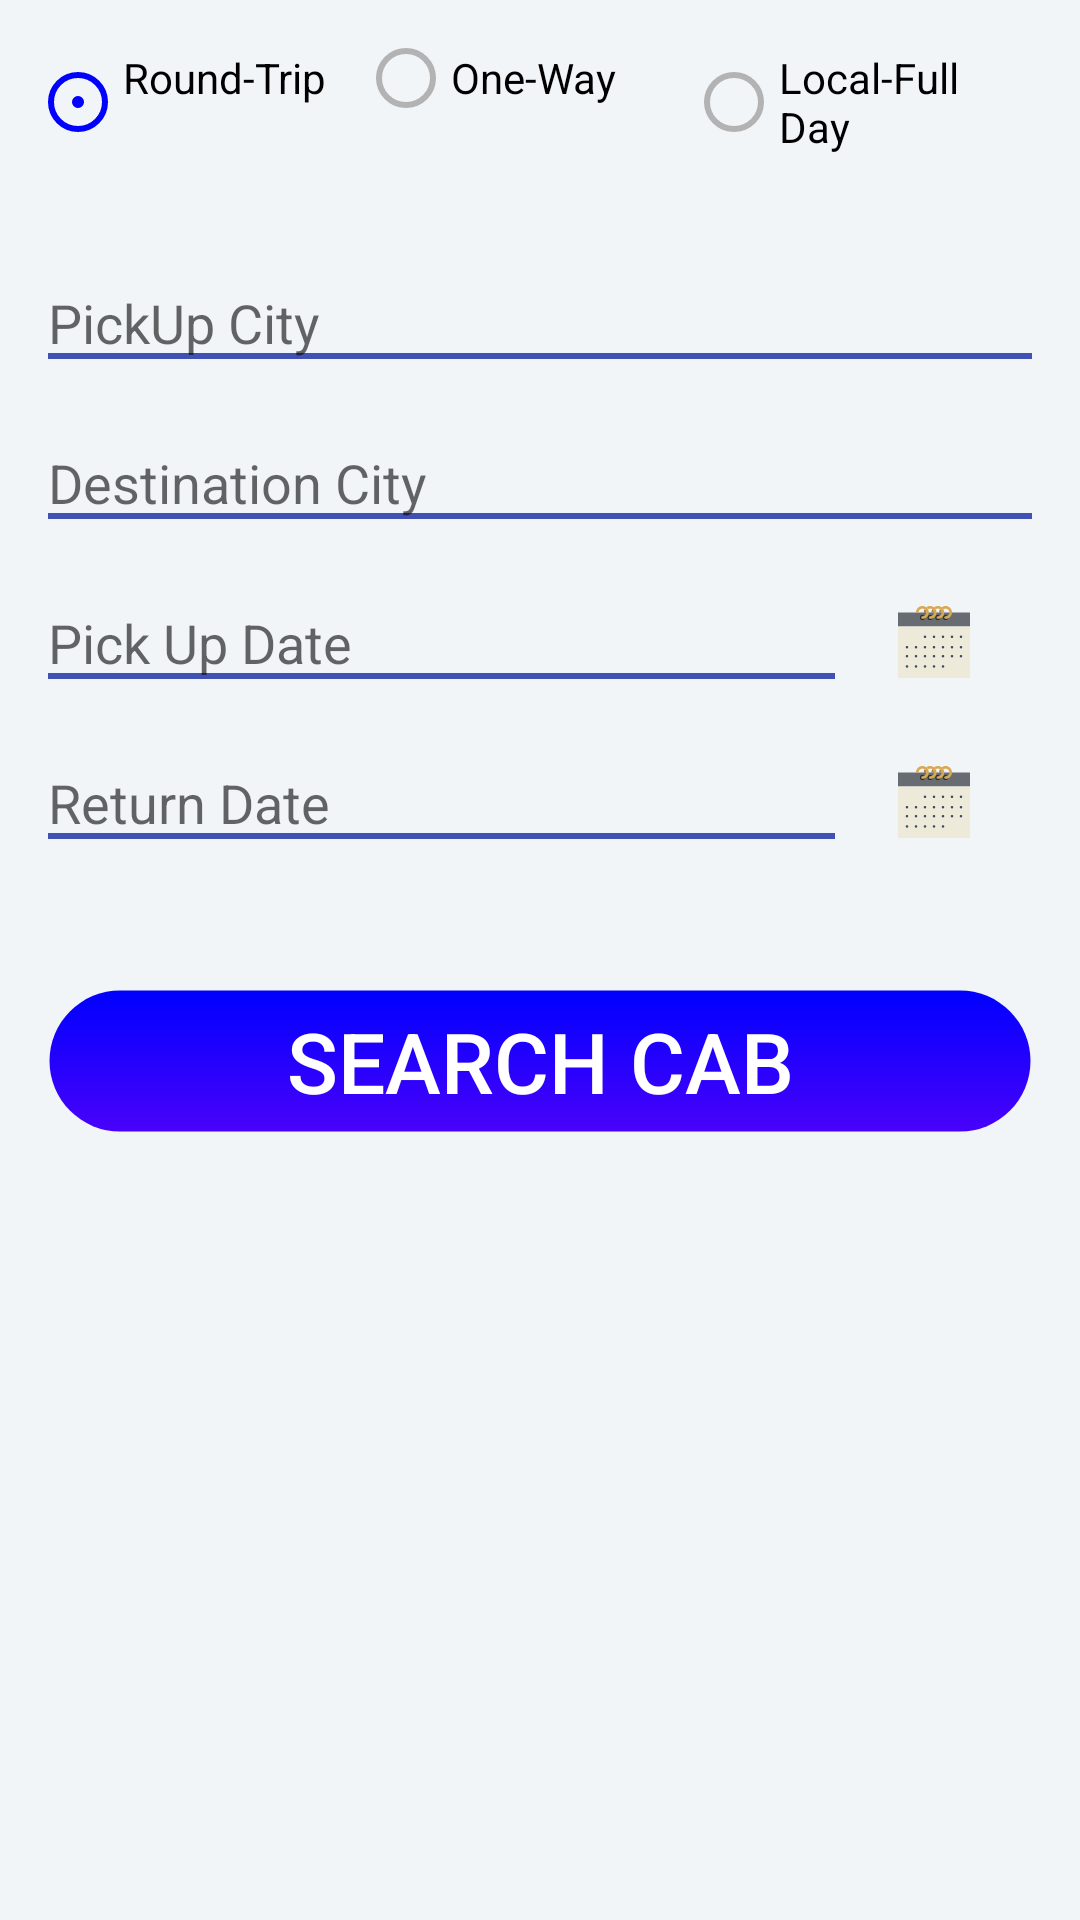

Where to tap for icons on this 1080 x 1920 app screen, as point (x, y):
calendar: point (934, 642), point (934, 802)
